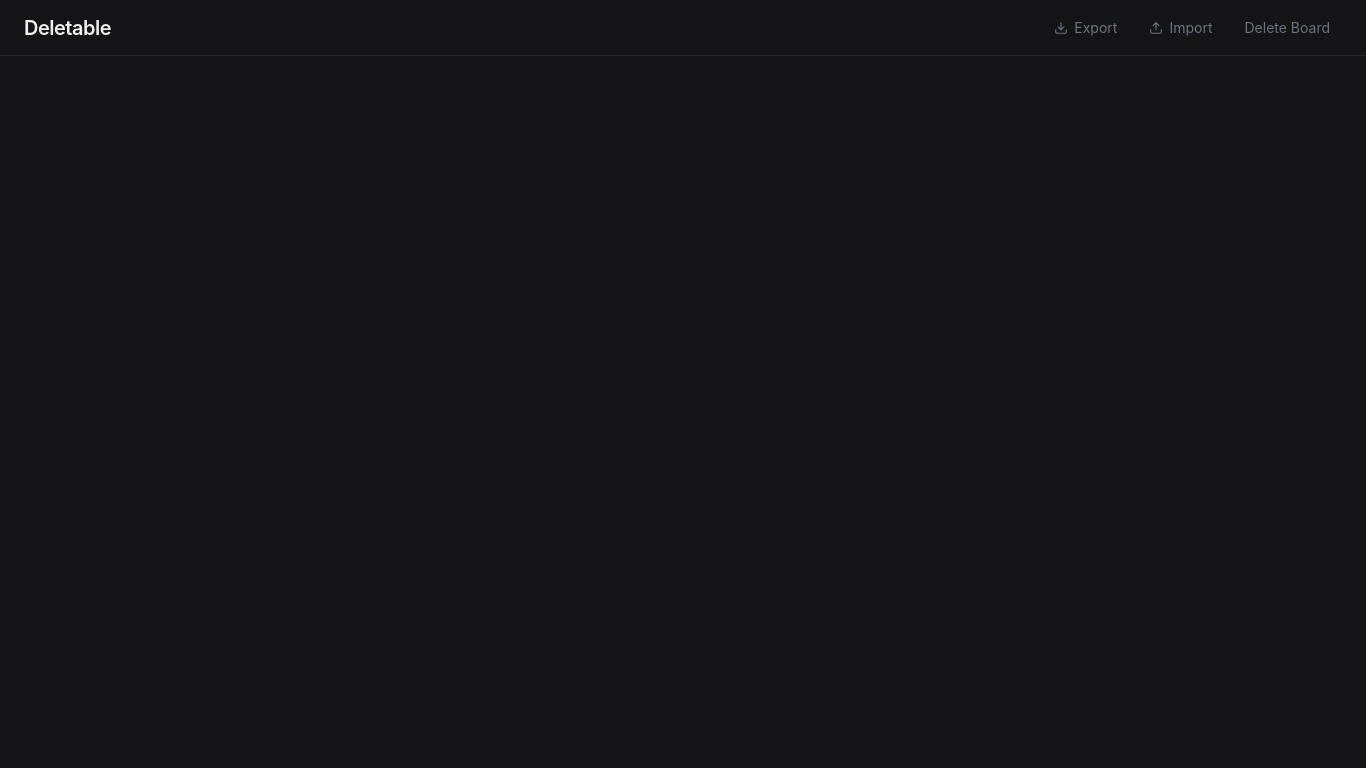
Test: Header › shows confirm dialog when clicking delete
Click the button "Delete Board" at (1287, 28), box [1232,12,1342,44]
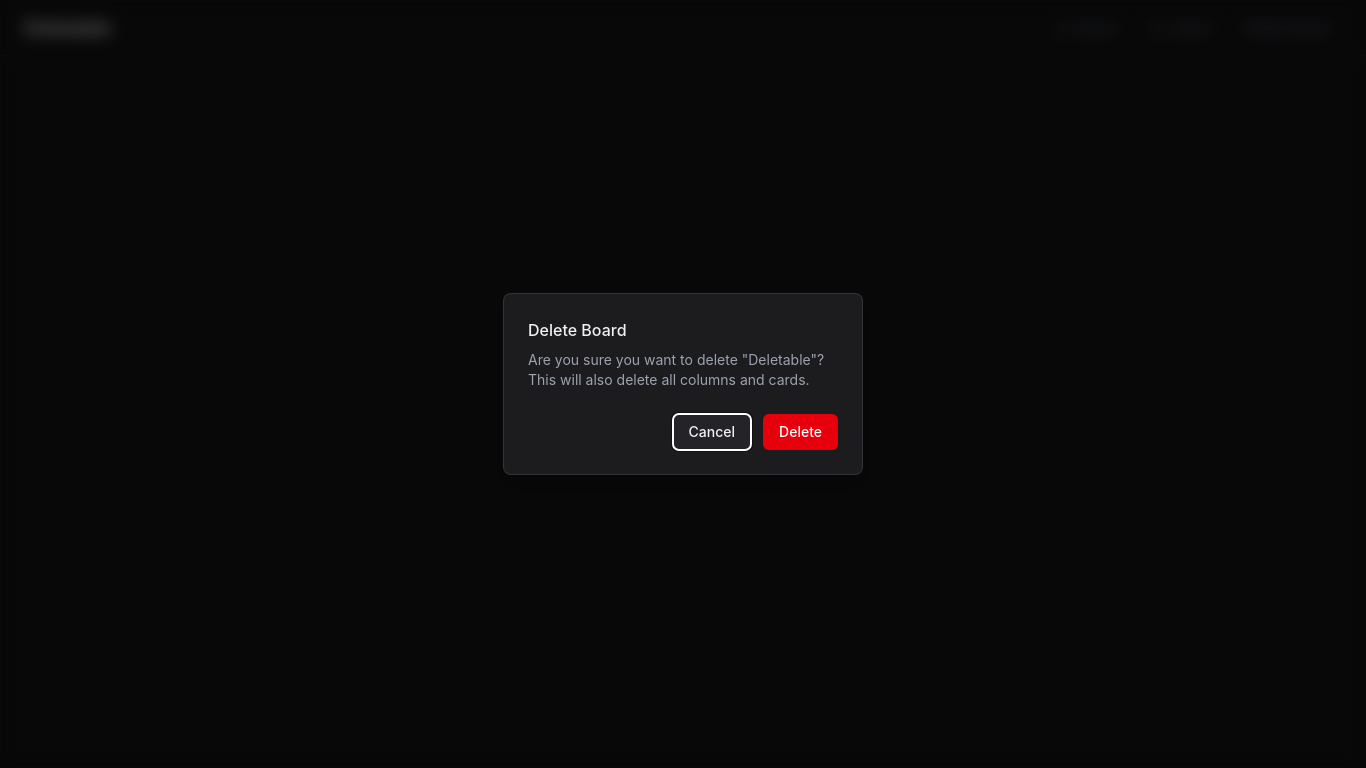
Expected: the dialog is shown, [503,293,863,475]
Expected: the heading "Delete Board" is shown, [528,320,626,340]
